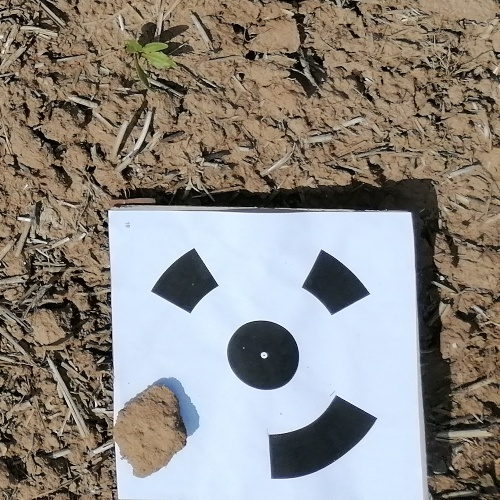beet: (122, 38, 177, 70)
